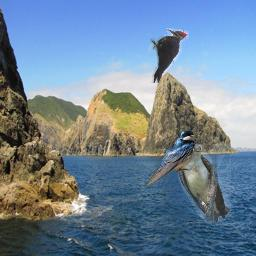Swallow: (178, 144, 231, 223), (146, 128, 197, 187)
Woodpecker: (150, 28, 189, 83)
